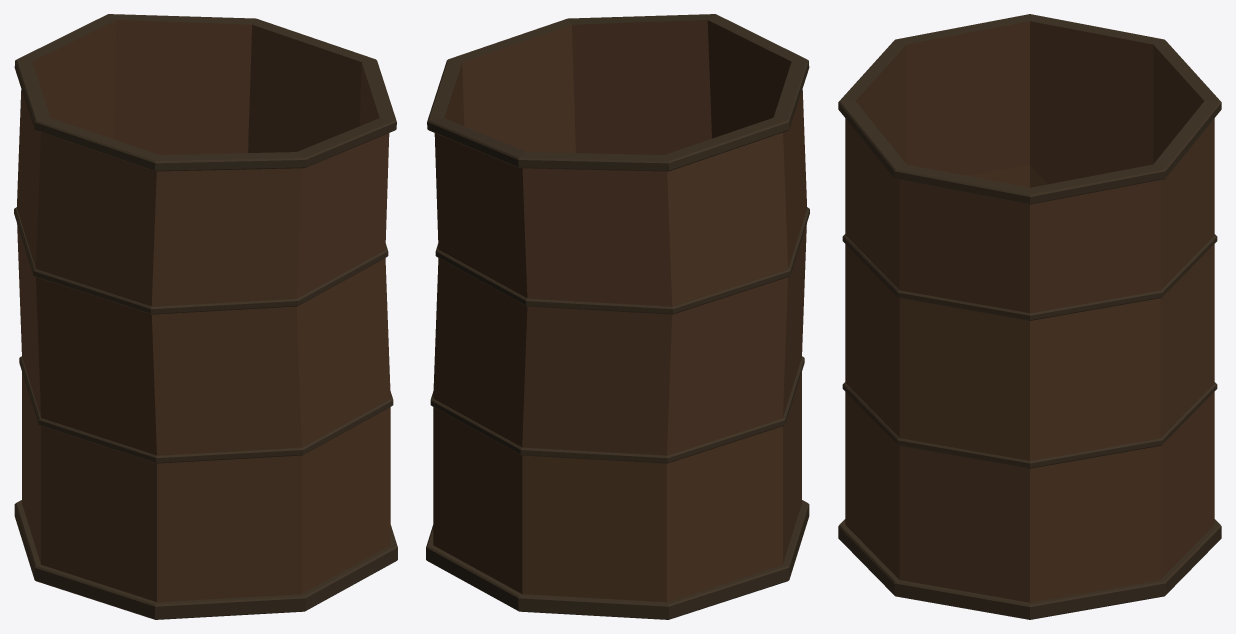
The model's file is RustyBarrel_1.fbx.
3 views of the same model, side by side, from view 1: azimuth 30°, elevation 25°; view 2: azimuth 150°, elevation 25°; view 3: azimuth 270°, elevation 25° (orthographic). The views are drawn at different scales.
Visible parts, largest first — view 1: RustyBarrel_1; view 2: RustyBarrel_1; view 3: RustyBarrel_1.
Part boxes in pixels (<box>): RustyBarrel_1: <box>14,14,397,619</box>; RustyBarrel_1: <box>426,14,809,619</box>; RustyBarrel_1: <box>838,14,1221,619</box>.
Size of the model in its own units: 79.34 by 101 by 79.06.
